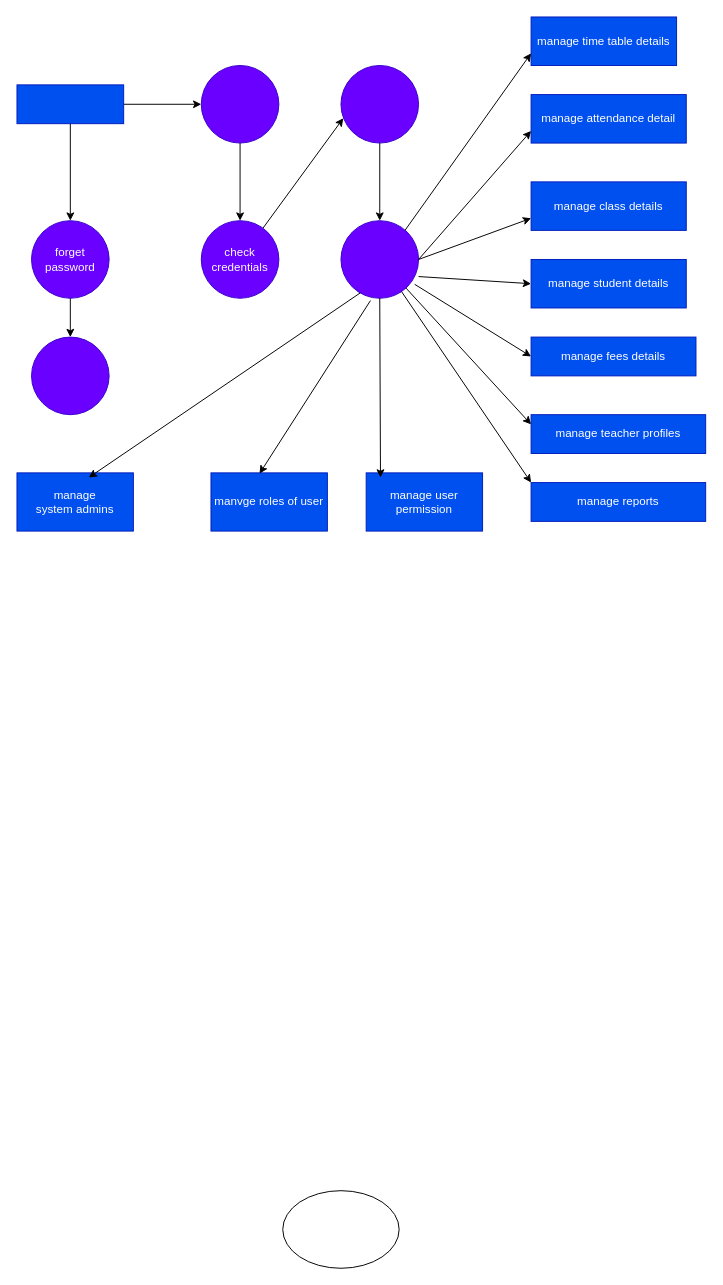
Image size: 723x1285. Some labels were removed from this diagram. The centre of each missing label's shape, as x and y in pixels:
"admin" belongs at pixel 70 104.
"check roles of access" belongs at pixel 379 104.
"login to system" belongs at pixel 239 104.
"manage modules" belongs at pixel 379 259.
"monitor" belongs at pixel 340 1229.
"send emvil to user" belongs at pixel 70 375.
